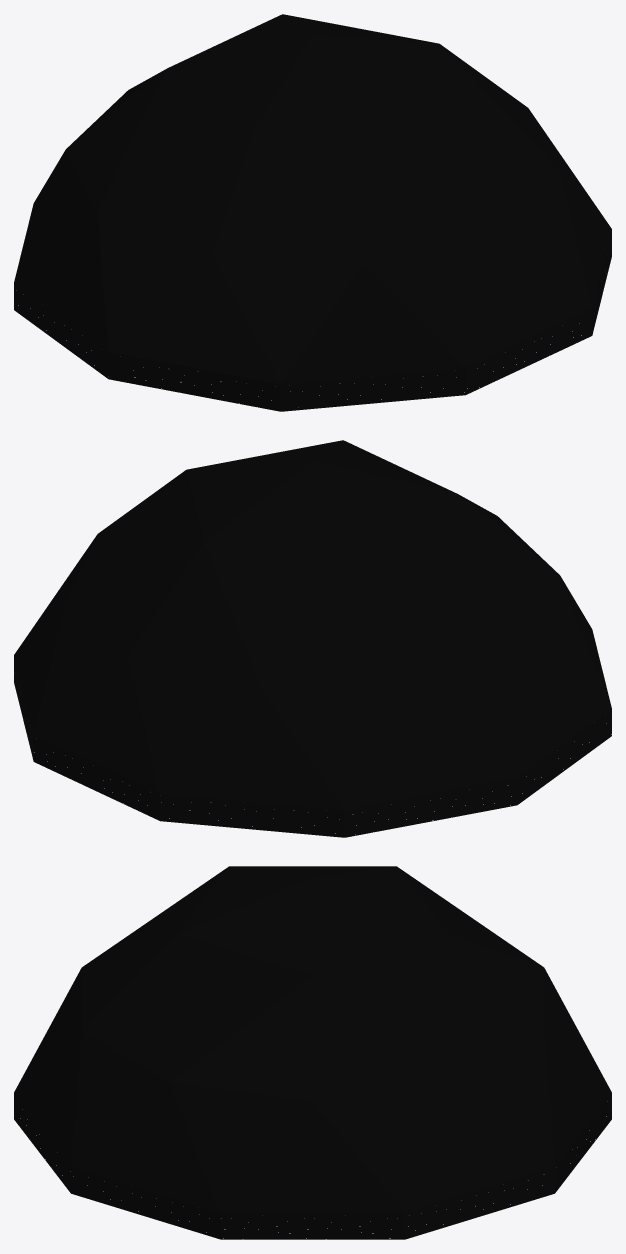
Rendered from uvmd-0364.glb.
3 views of the same model, one above another, from view 1: azimuth 30°, elevation 25°; view 2: azimuth 150°, elevation 25°; view 3: azimuth 270°, elevation 25° (orthographic). The views are drawn at different scales.
Visible parts, largest first — view 1: uvmd-0364; view 2: uvmd-0364; view 3: uvmd-0364.
Part boxes in pixels (x1,y1,x2,y2): uvmd-0364: (14, 14, 611, 411); uvmd-0364: (14, 440, 611, 837); uvmd-0364: (14, 866, 611, 1239).
Size of the model in its own units: 3400 by 1604 by 3576.
Materials: 2 (2 with a texture image).
